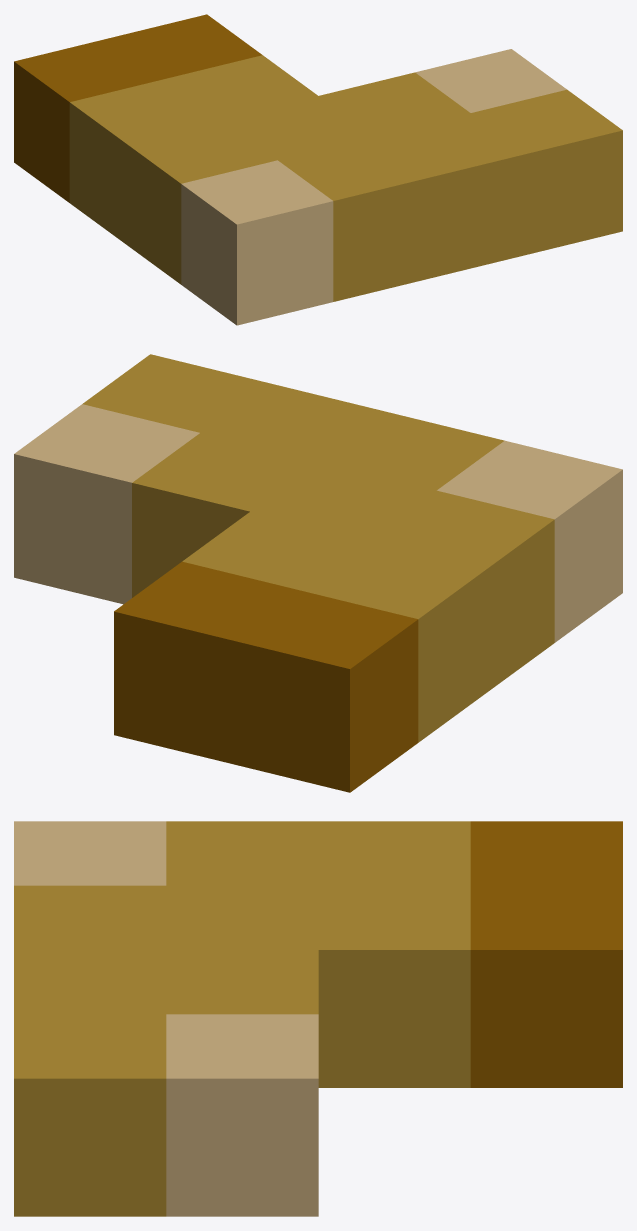
Rendered from Sock00.gltf.
3 renders of one model, top to bottom at view 1: azimuth 30°, elevation 25°; view 2: azimuth 150°, elevation 25°; view 3: azimuth 270°, elevation 25°, orthographic. The views are drawn at different scales.
Bounding box in the file's own units: 4 × 1 × 4.
